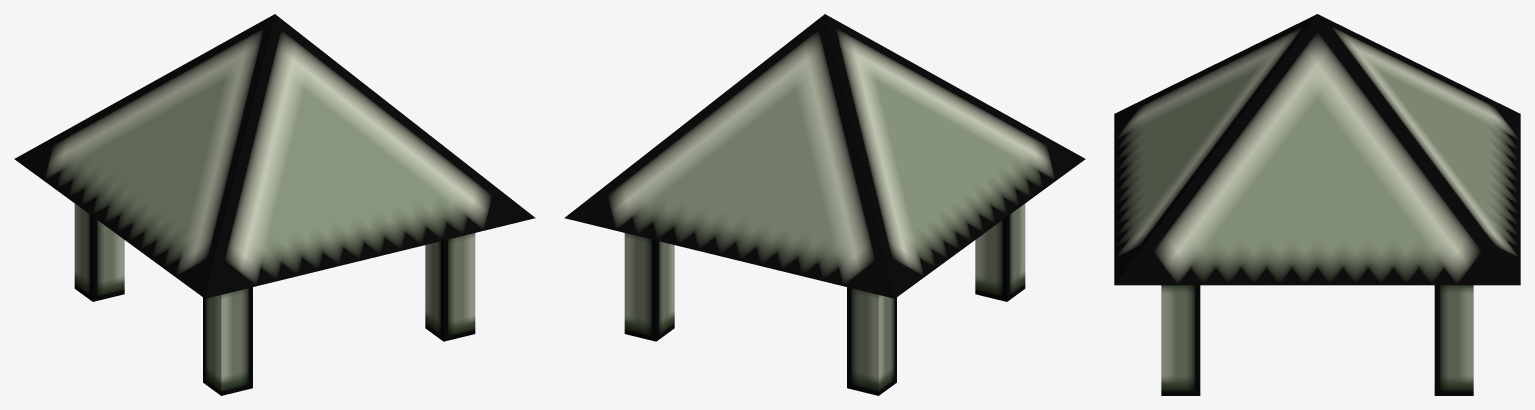
Rendered from arch_chimney_capB.FBX.
3 views of the same model, side by side, from view 1: azimuth 30°, elevation 25°; view 2: azimuth 150°, elevation 25°; view 3: azimuth 270°, elevation 25° (orthographic). The views are drawn at different scales.
Parts seen in each view (by area): view 1: arch_chimney_capB; view 2: arch_chimney_capB; view 3: arch_chimney_capB.
Boxes of the visible parts, x1=… form: arch_chimney_capB: x1=14, y1=14, x2=535, y2=395; arch_chimney_capB: x1=564, y1=14, x2=1085, y2=395; arch_chimney_capB: x1=1114, y1=14, x2=1520, y2=395.
Size of the model in its own units: 1.04 by 0.8942 by 1.04.
1 material, 1 textured.
